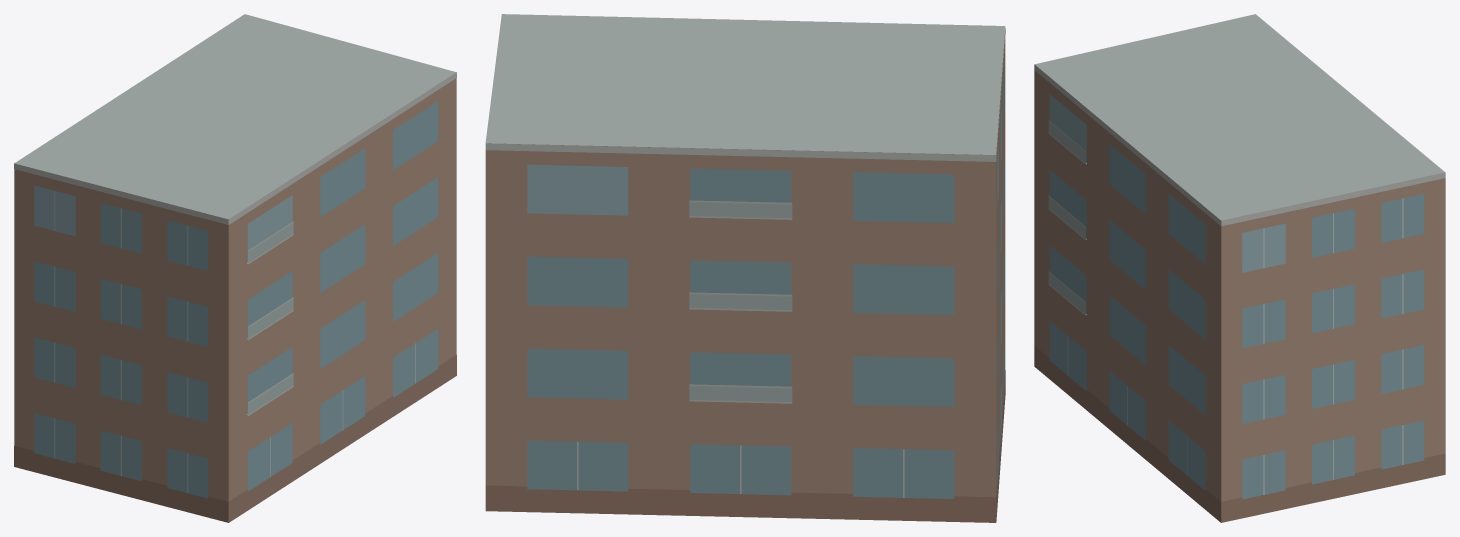
The model's file is survey-upis-32742247.glb.
3 renders of one model, left to right at view 1: azimuth 30°, elevation 25°; view 2: azimuth 150°, elevation 25°; view 3: azimuth 270°, elevation 25°, orthographic. The views are drawn at different scales.
Visible parts, largest first — view 1: survey-upis-32742247.tmp; view 2: survey-upis-32742247.tmp; view 3: survey-upis-32742247.tmp.
Part boxes in pixels (left/top/right/bottom): survey-upis-32742247.tmp: left=14, top=14, right=456, bottom=522; survey-upis-32742247.tmp: left=485, top=14, right=1005, bottom=522; survey-upis-32742247.tmp: left=1034, top=14, right=1445, bottom=522.
Bounding box in the file's own units: 19.19 × 13.08 × 16.14.
